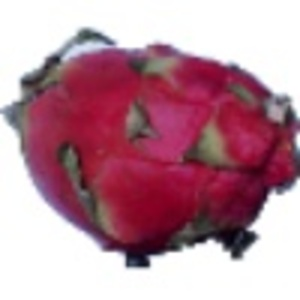pitaia: (1, 26, 300, 271)
